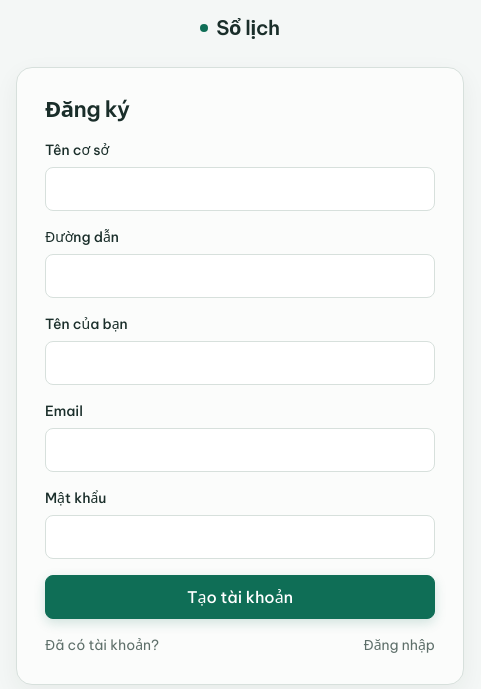
Test: shows the register heading and an alert when email is missing
The width and height of the screenshot is (481, 689).
Check: the heading "Đăng ký" is shown, box [45, 95, 130, 123]
In the field labelled "Tên cơ sở": (240, 189) [45, 167, 435, 211], type "Spa Một"
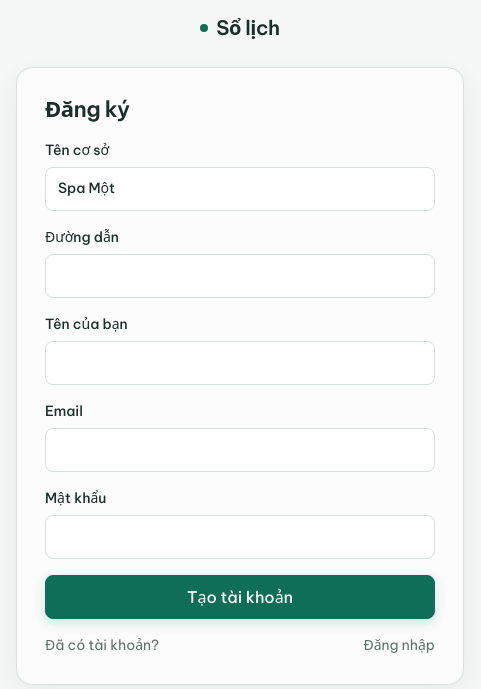
In the field labelled "Đường dẫn": (240, 276) [45, 254, 435, 298], type "spa-mot"
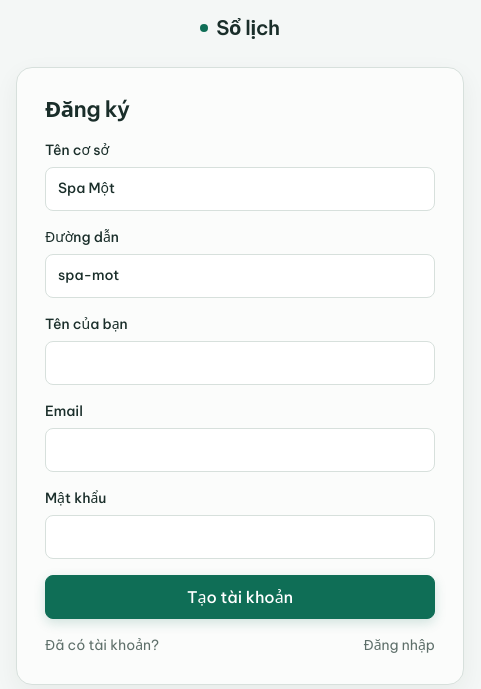
In the field labelled "Tên của bạn": (240, 363) [45, 341, 435, 385], type "An"
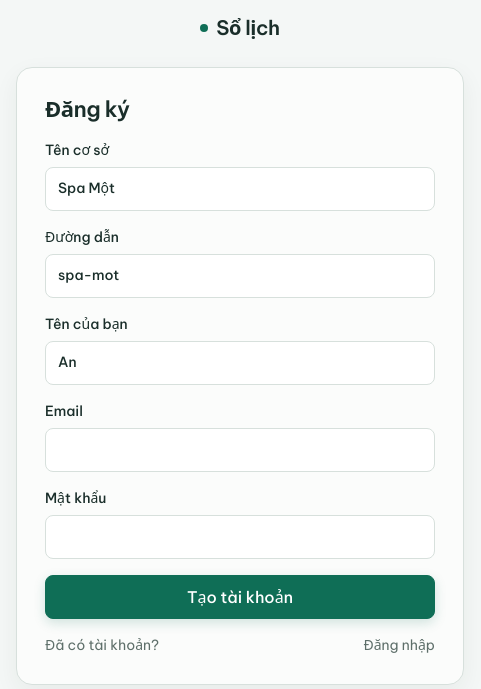
In the password field labelled "Mật khẩu": (240, 537) [45, 515, 435, 559], type "password"
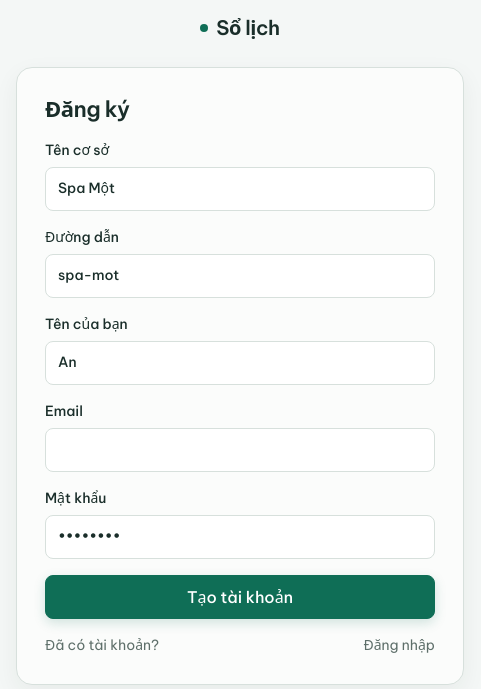
Click the button "Tạo tài khoản": (240, 597) [45, 575, 435, 619]
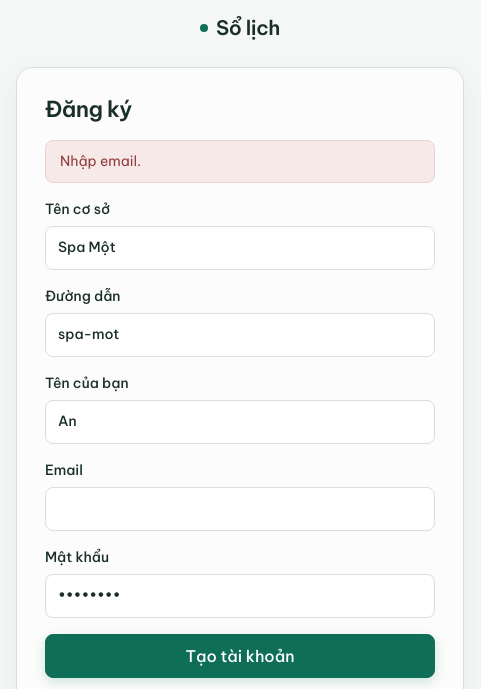
Check: the message "Nhập email." is shown, box [45, 140, 435, 183]
